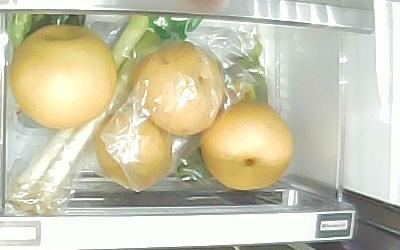pear: (11, 24, 116, 129), (201, 101, 294, 190)
pear_vinyl: (131, 43, 221, 135), (95, 107, 173, 190)
